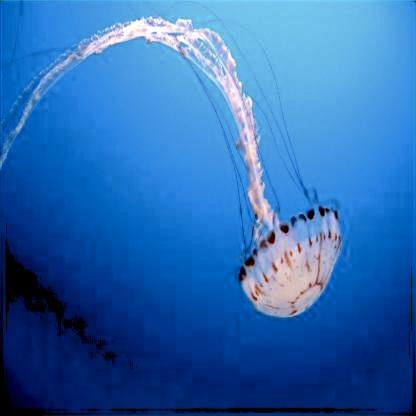Mosaic: (16, 22, 338, 318)
